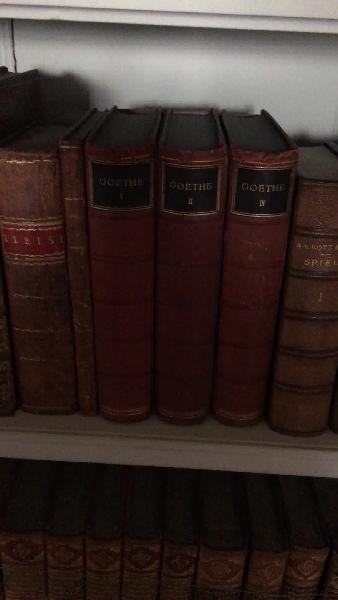Aa6-10: (52, 135, 97, 419)
Aa6-11_13: (83, 139, 296, 432)
Aa6-9: (1, 145, 79, 425)
